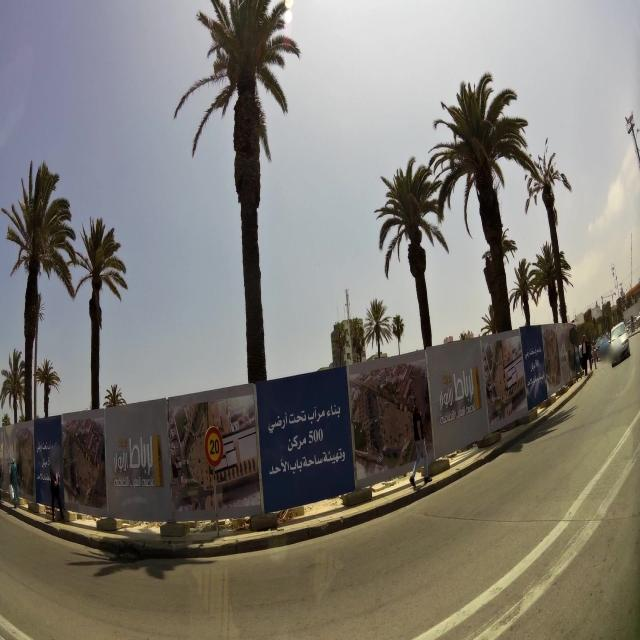car: (610, 322, 631, 368)
